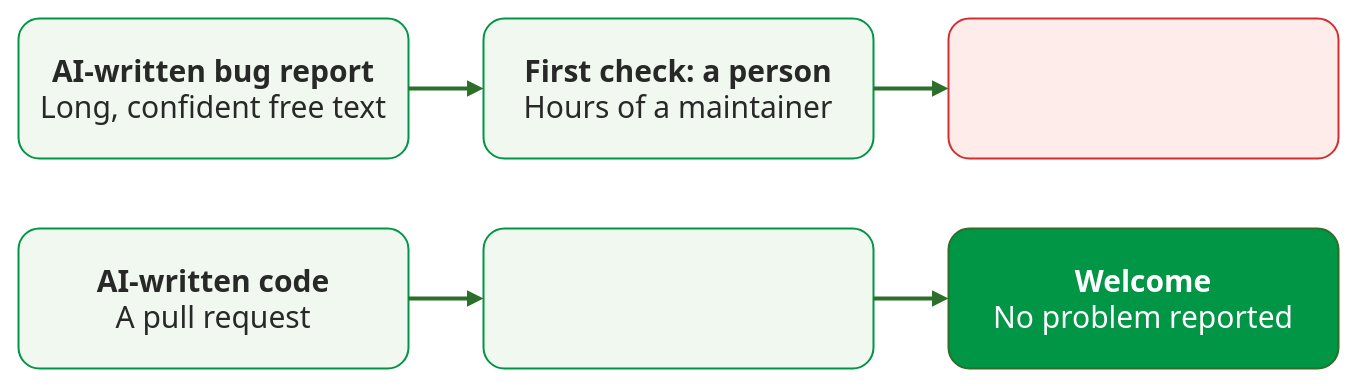
Image size: 1356x386. Some labels were removed from this diagram. Here are the shapes that lost their labels. From the top down, the box of each, then its label:
(947, 17, 1339, 159): Shut out Bug bounty closed
(482, 227, 874, 369): First check: a machine 200 automatic jobs
